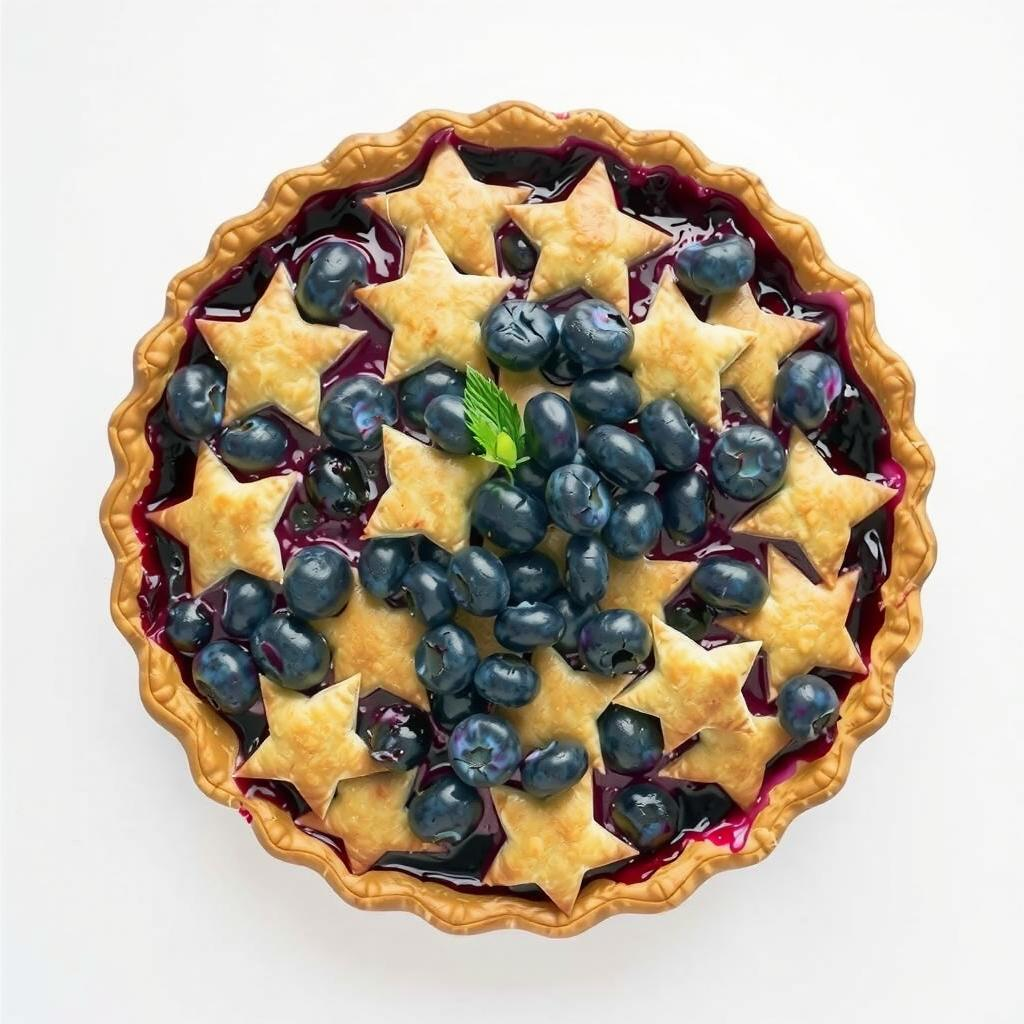pie: (96, 96, 946, 940)
